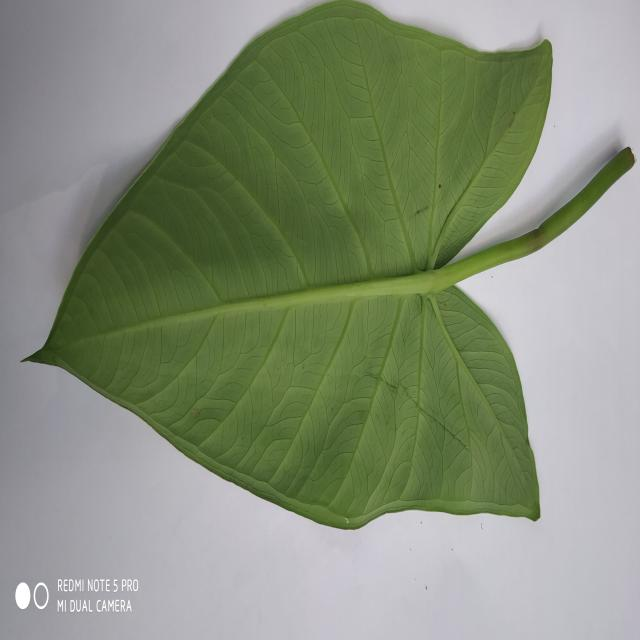taro: (36, 2, 552, 529)
